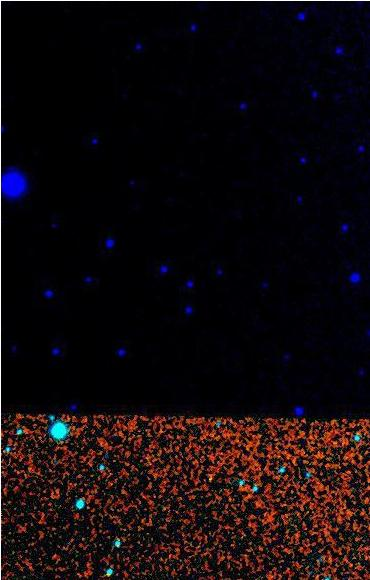star: (192, 462, 222, 492)
